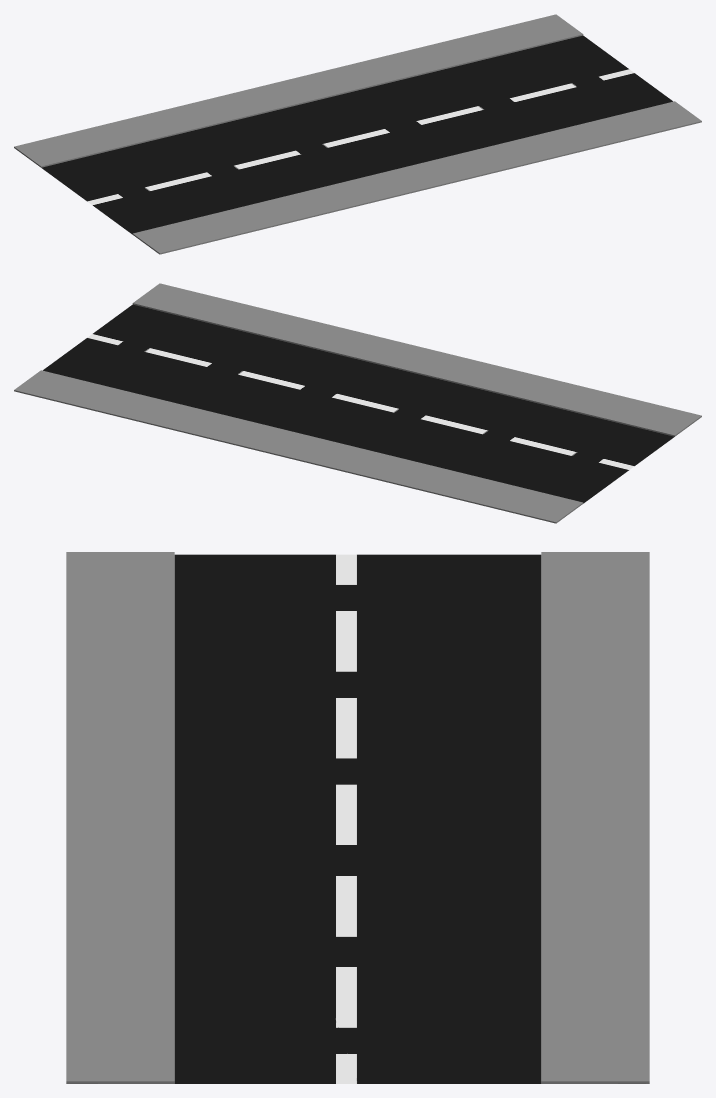
Rendered from road.fbx.
3 renders of one model, top to bottom at view 1: azimuth 30°, elevation 25°; view 2: azimuth 150°, elevation 25°; view 3: azimuth 270°, elevation 25°, orthographic. The views are drawn at different scales.
Parts seen in each view (by area): view 1: sidewalk; view 2: sidewalk; view 3: sidewalk.
Part boxes in pixels (x1,y1,x2,y2): sidewalk: (14, 14, 701, 254); sidewalk: (14, 283, 701, 523); sidewalk: (66, 552, 649, 1083).
Size of the model in its own units: 76.46 by 0.1788 by 35.61.
